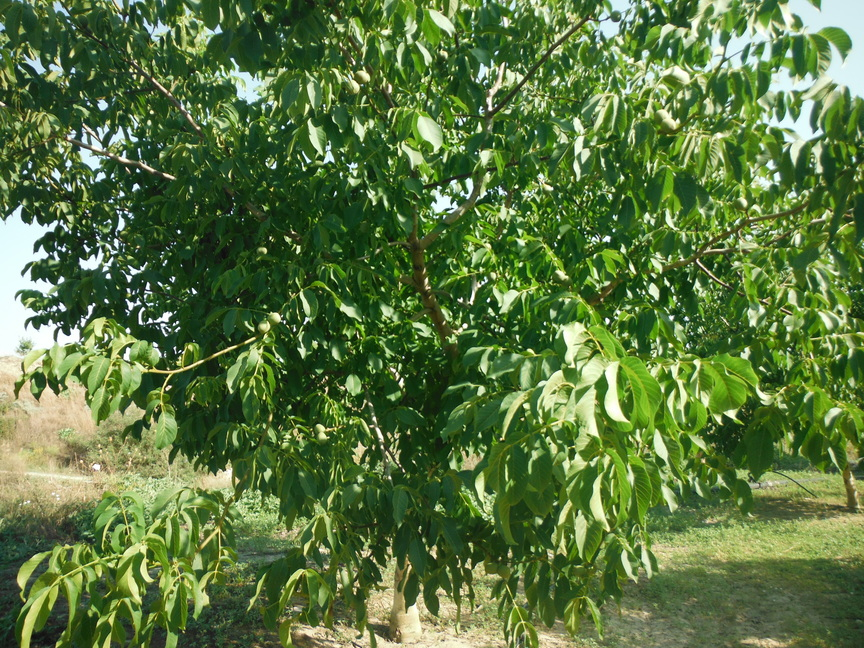walnut: (660, 117, 677, 135), (344, 79, 361, 96), (732, 194, 749, 211), (653, 108, 670, 123), (267, 310, 283, 325), (484, 559, 499, 575), (551, 269, 566, 284), (77, 11, 90, 28), (354, 69, 369, 83), (435, 47, 449, 62), (256, 319, 271, 333), (498, 564, 513, 578), (313, 420, 326, 435), (316, 431, 327, 446), (488, 269, 499, 283), (255, 244, 269, 255), (563, 275, 574, 287), (139, 30, 150, 40), (84, 24, 94, 34), (483, 241, 491, 250)
